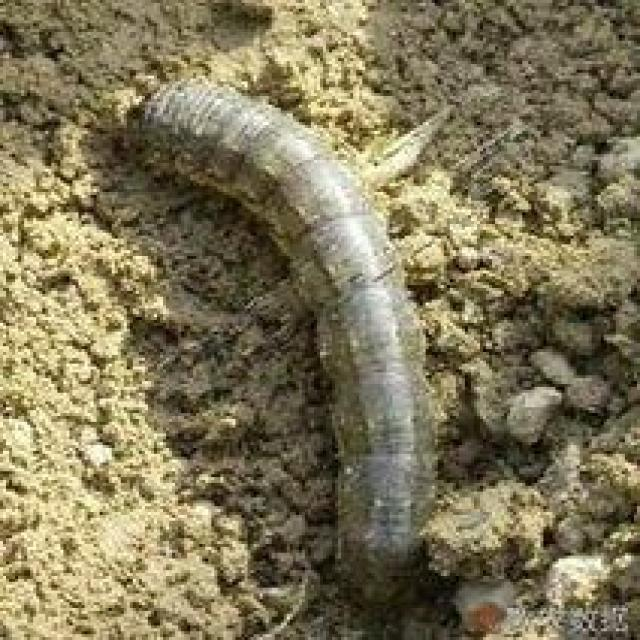black cutworm: (121, 80, 462, 598)
